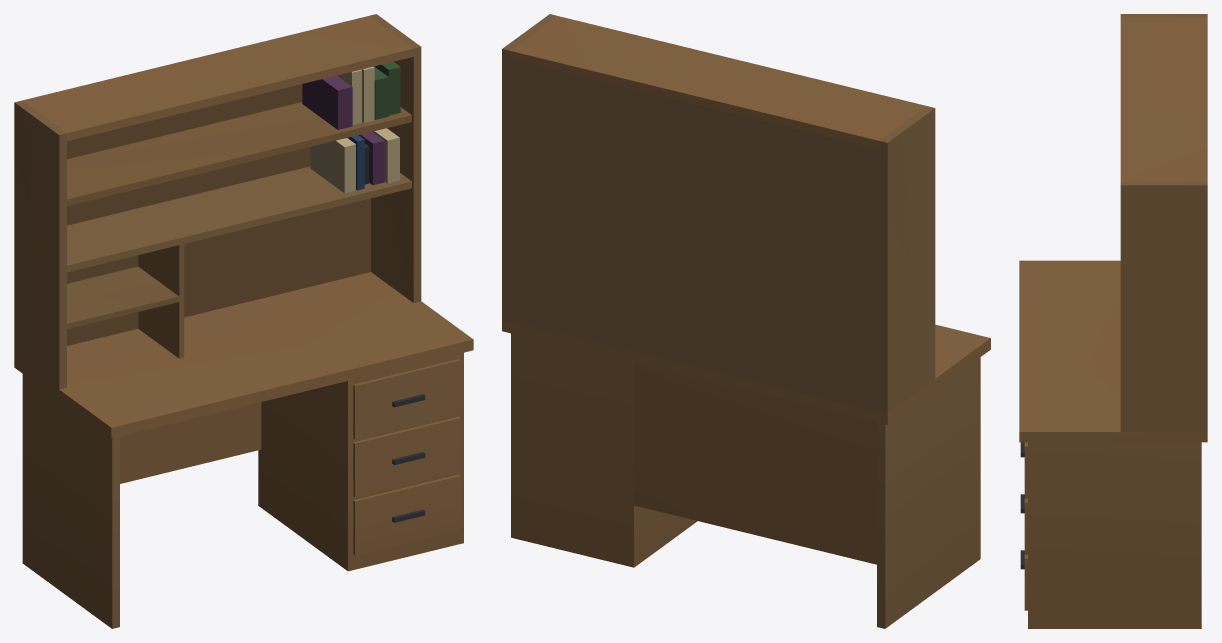
File: table.desk_hutch.bare.glb
The picture shows the model from 3 angles, left to right: view 1: azimuth 30°, elevation 25°; view 2: azimuth 150°, elevation 25°; view 3: azimuth 270°, elevation 25°; orthographic projection. The views are drawn at different scales.
Visible parts, largest first — view 1: table_desk_hutch_bare; view 2: table_desk_hutch_bare; view 3: table_desk_hutch_bare.
Boxes of the visible parts, x1,y1,x2,y2 form: table_desk_hutch_bare: (14,14,473,628); table_desk_hutch_bare: (502,14,990,628); table_desk_hutch_bare: (1019,14,1207,628).
Size of what is drawn, in the model's own units: 1.4 by 1.7 by 0.65.
